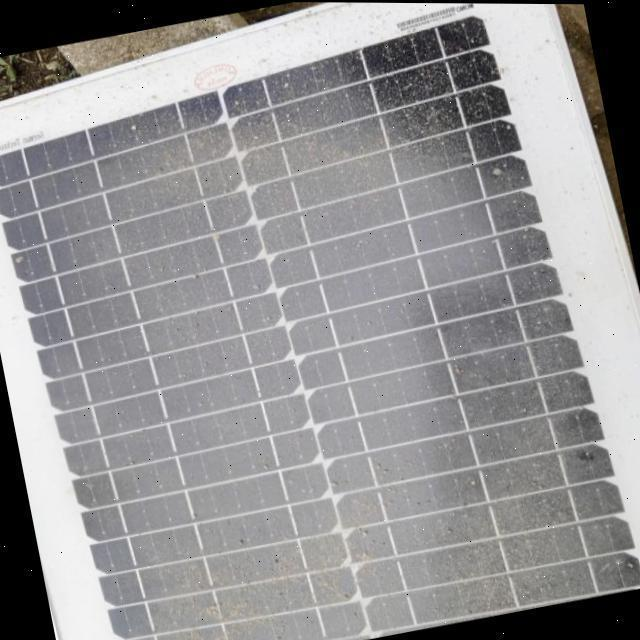Anomaly Solar Panel: (0, 44, 640, 640)
Surface Contaminant: (0, 48, 640, 640)
